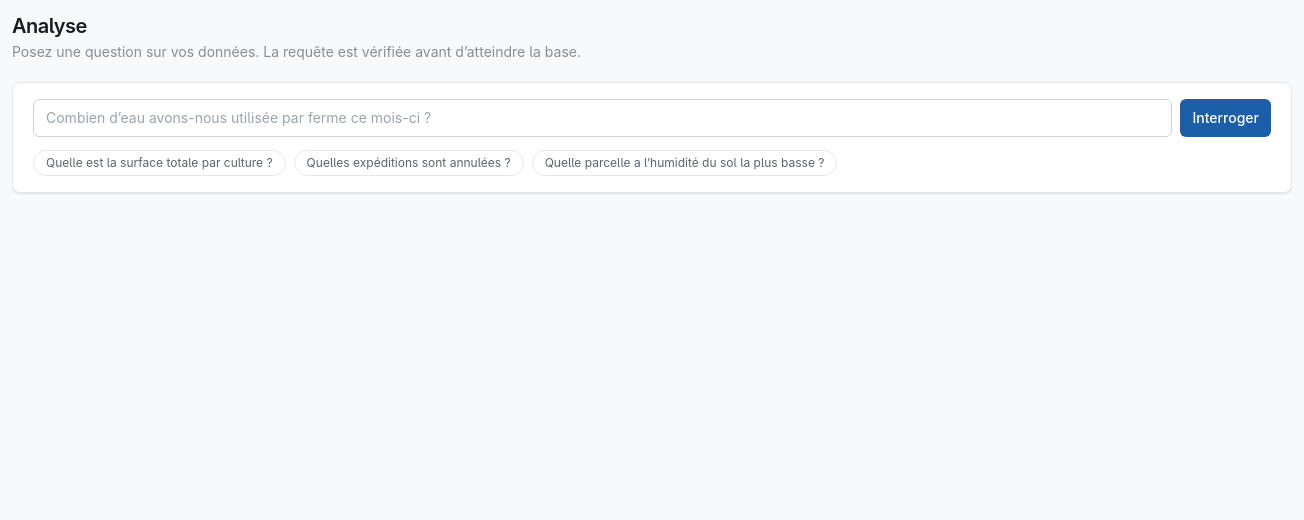
le résultat › dit qu’un résultat vide est vide, sans l’expliquer
What coordinates should you click on to do the following:
click the button "Quelle est la surface totale par culture ?"
I would click on:
 (159, 163)
Its box is [33, 150, 286, 176].
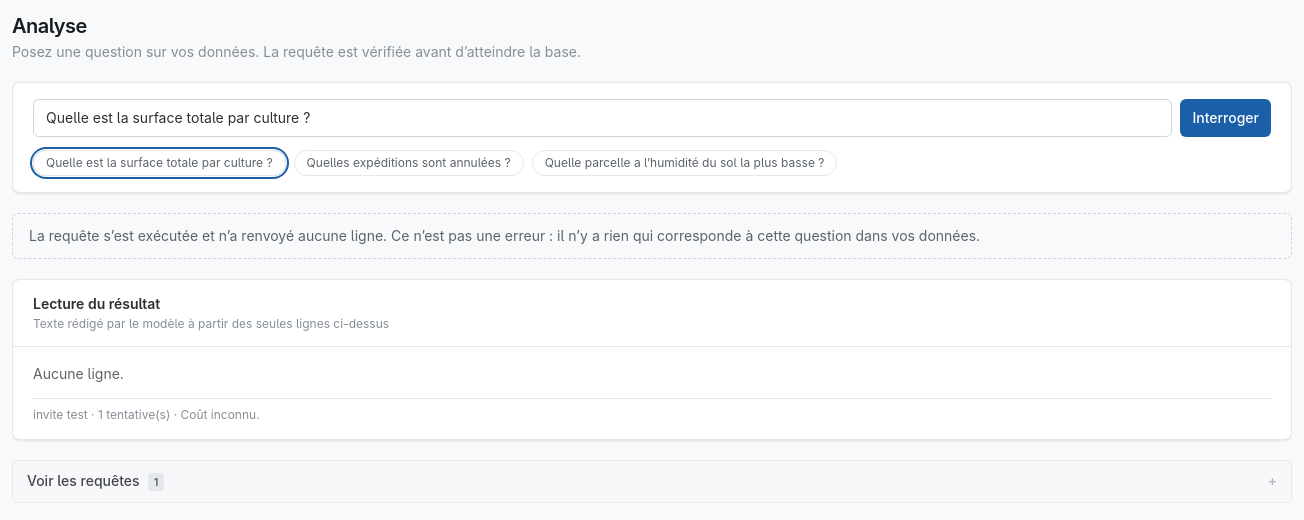
Expected: the text "Ce n’est pas une erreur" is shown, [29, 227, 980, 244]
